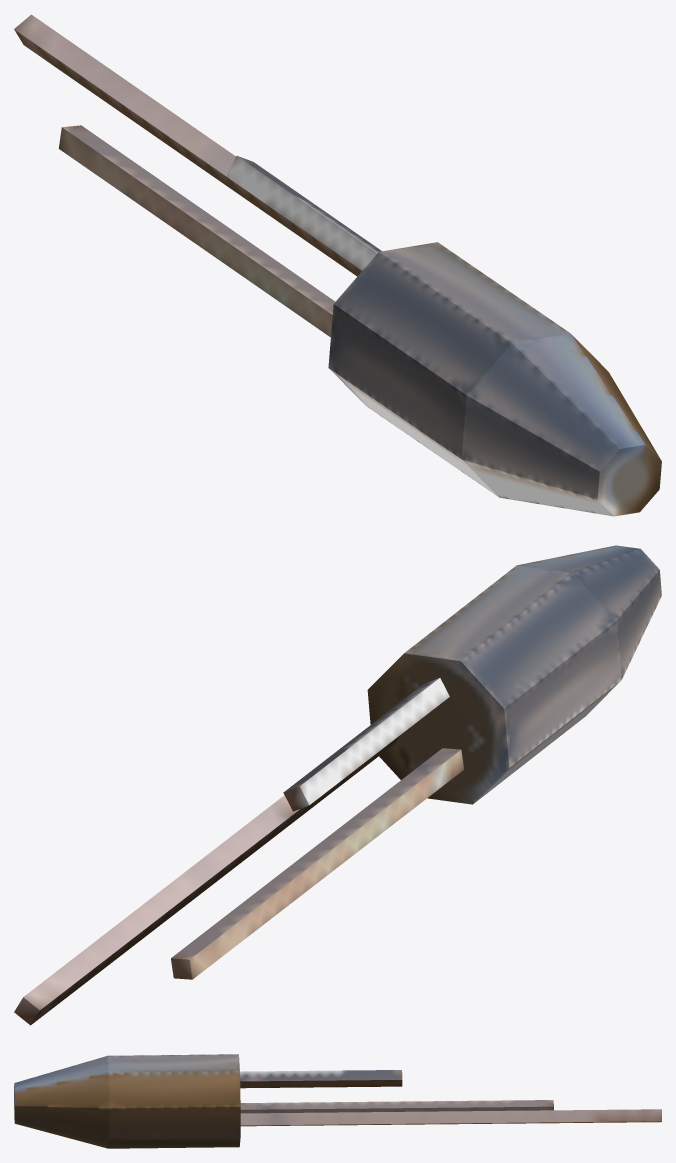
3 views of the same model, one above another, from view 1: azimuth 30°, elevation 25°; view 2: azimuth 150°, elevation 25°; view 3: azimuth 270°, elevation 25° (orthographic). The views are drawn at different scales.
Parts seen in each view (by area): view 1: Bala_Cylinder.003, Estela_3_Cube.008, Estela_1_Cube.006, Estela_2_Cube.007; view 2: Bala_Cylinder.003, Estela_3_Cube.008, Estela_1_Cube.006, Estela_2_Cube.007; view 3: Bala_Cylinder.003, Estela_1_Cube.006, Estela_3_Cube.008, Estela_2_Cube.007.
Boxes of the visible parts, bbox=[...] form: Bala_Cylinder.003: bbox=[328, 242, 661, 516]; Estela_3_Cube.008: bbox=[58, 125, 335, 337]; Estela_1_Cube.006: bbox=[14, 14, 362, 276]; Estela_2_Cube.007: bbox=[226, 155, 381, 270]; Bala_Cylinder.003: bbox=[367, 545, 661, 804]; Estela_3_Cube.008: bbox=[171, 748, 464, 979]; Estela_1_Cube.006: bbox=[14, 736, 399, 1025]; Estela_2_Cube.007: bbox=[283, 678, 449, 811]; Bala_Cylinder.003: bbox=[14, 1054, 240, 1148]; Estela_1_Cube.006: bbox=[240, 1109, 661, 1126]; Estela_3_Cube.008: bbox=[240, 1100, 553, 1113]; Estela_2_Cube.007: bbox=[240, 1070, 402, 1088].
Size of what is drawn, in the model's own units: 0.2785 by 0.2676 by 1.94.
